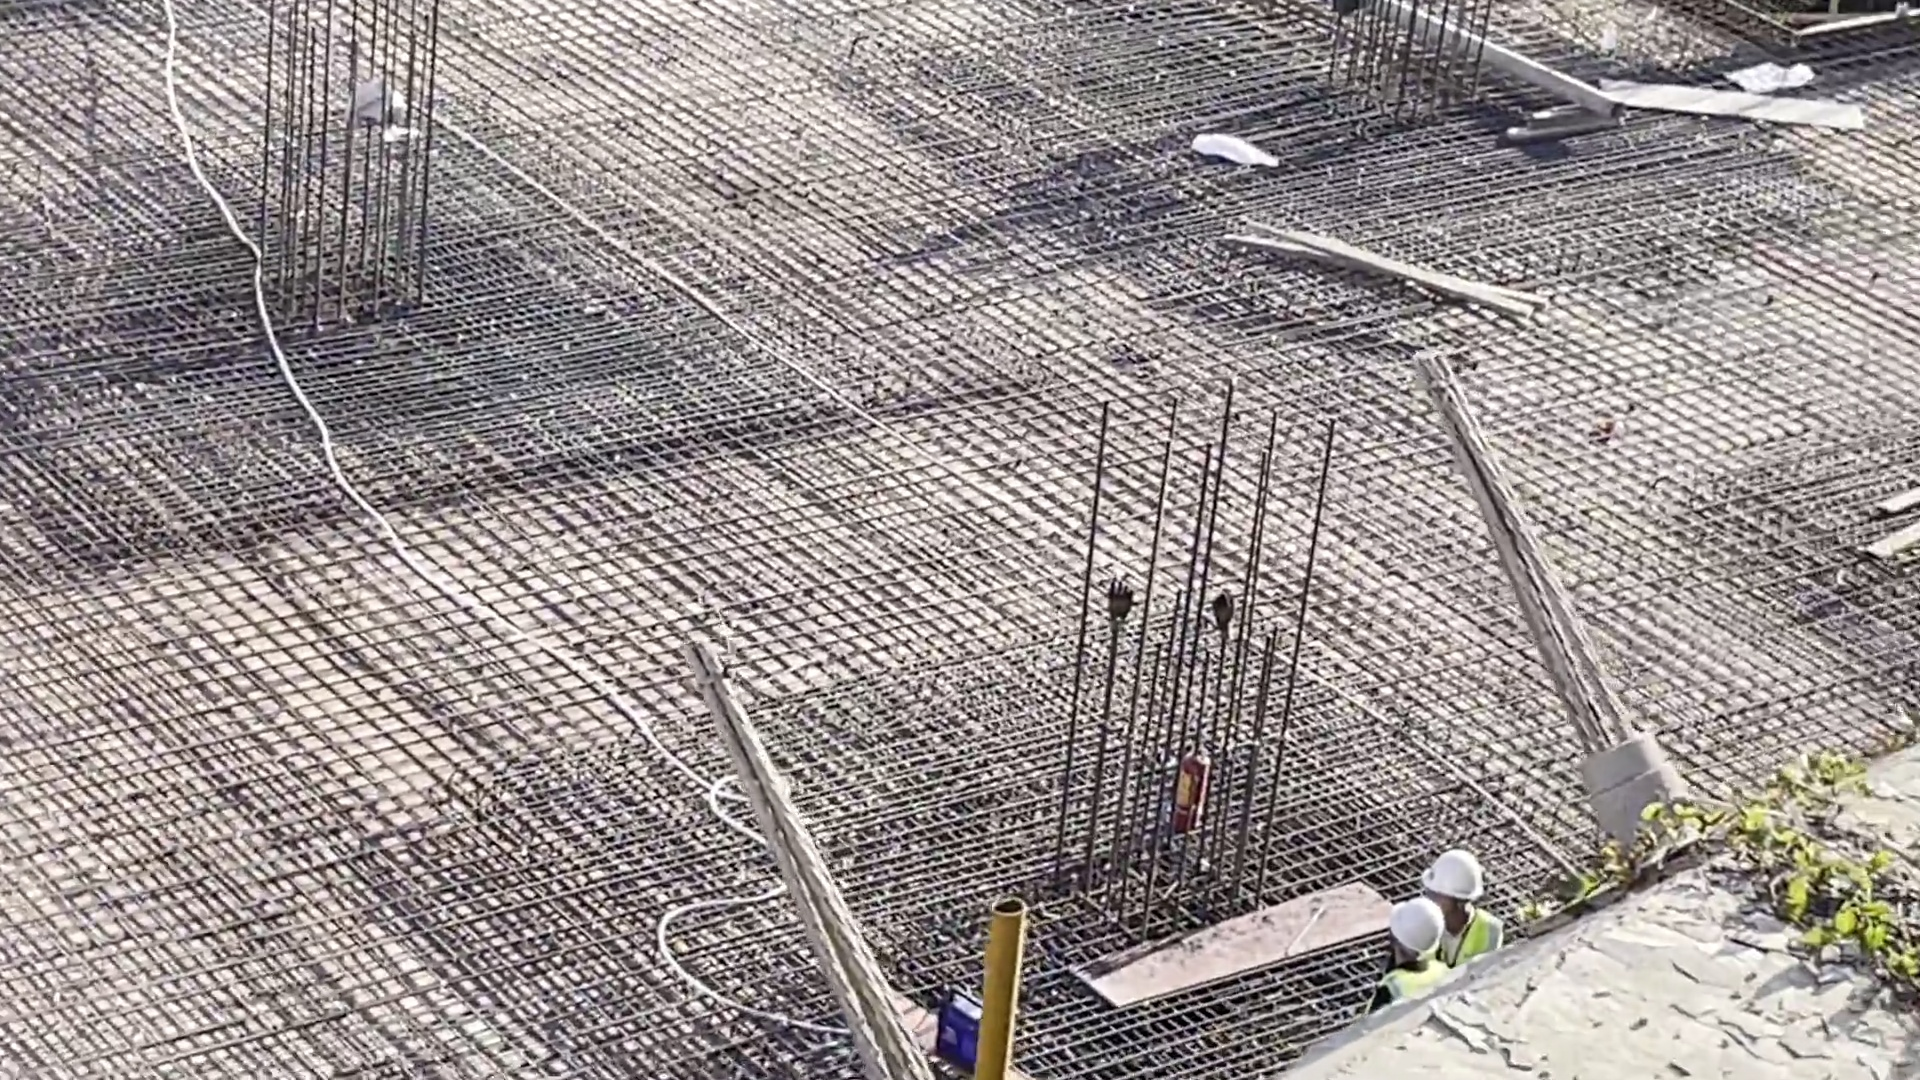helmet: (1425, 857, 1475, 894), (1403, 908, 1436, 946)
person: (1401, 843, 1508, 968), (1355, 891, 1458, 1008)
vest: (1428, 918, 1497, 961)
